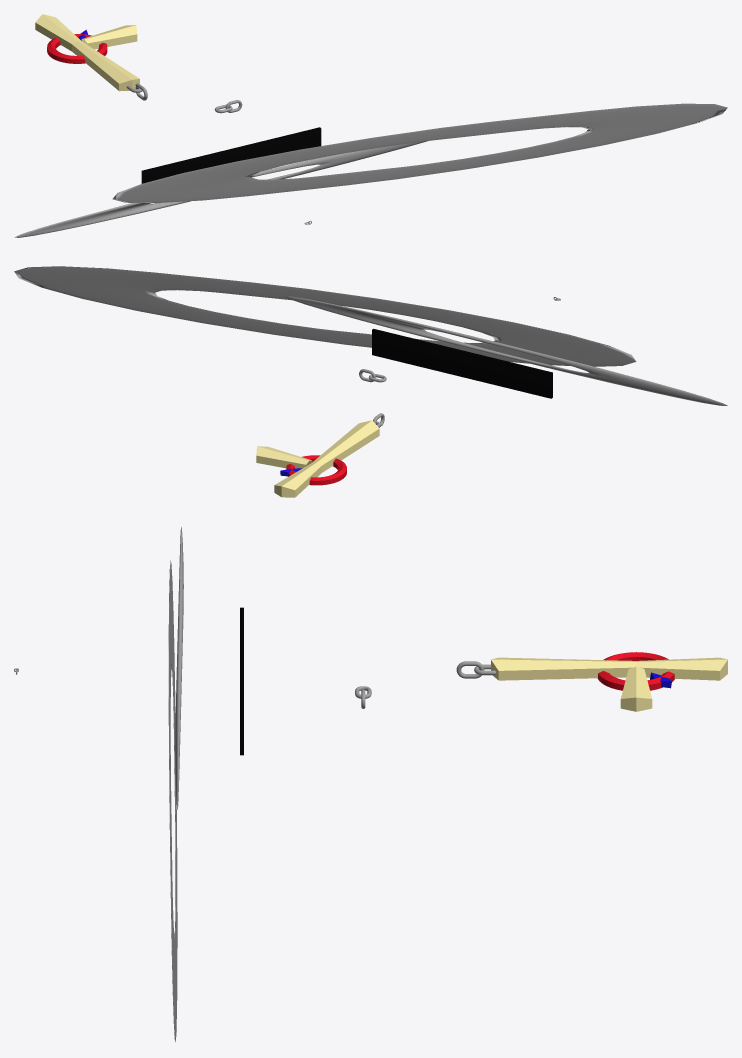
The model's file is Collier.glb.
The picture shows the model from 3 angles, top to bottom: view 1: azimuth 30°, elevation 25°; view 2: azimuth 150°, elevation 25°; view 3: azimuth 270°, elevation 25°; orthographic projection. The views are drawn at different scales.
Visible parts, largest first — view 1: chaine.003, chaine.005, Cube.001, Croix, Plan.003, Cercle; view 2: chaine.003, Cube.001, chaine.005, Croix, Plan.003, Cercle; view 3: Croix, chaine.003, chaine.005, Plan.003, Cercle.
Boxes of the visible parts, <box> form: chaine.003: <box>112,103,727,203</box>; chaine.005: <box>14,141,427,237</box>; Cube.001: <box>141,127,321,183</box>; Croix: <box>35,14,139,91</box>; Plan.003: <box>81,25,137,49</box>; Cercle: <box>47,34,107,63</box>; chaine.003: <box>14,266,636,366</box>; Cube.001: <box>372,328,552,398</box>; chaine.005: <box>285,296,727,405</box>; Croix: <box>274,420,379,497</box>; Plan.003: <box>256,446,312,468</box>; Cercle: <box>286,455,346,485</box>; Croix: <box>491,657,727,680</box>; chaine.003: <box>168,560,177,1042</box>; chaine.005: <box>175,527,183,809</box>; Plan.003: <box>620,666,652,711</box>; Cercle: <box>597,652,674,690</box>.
Size of the model in its own units: 64.12 by 6.84 by 42.25.
